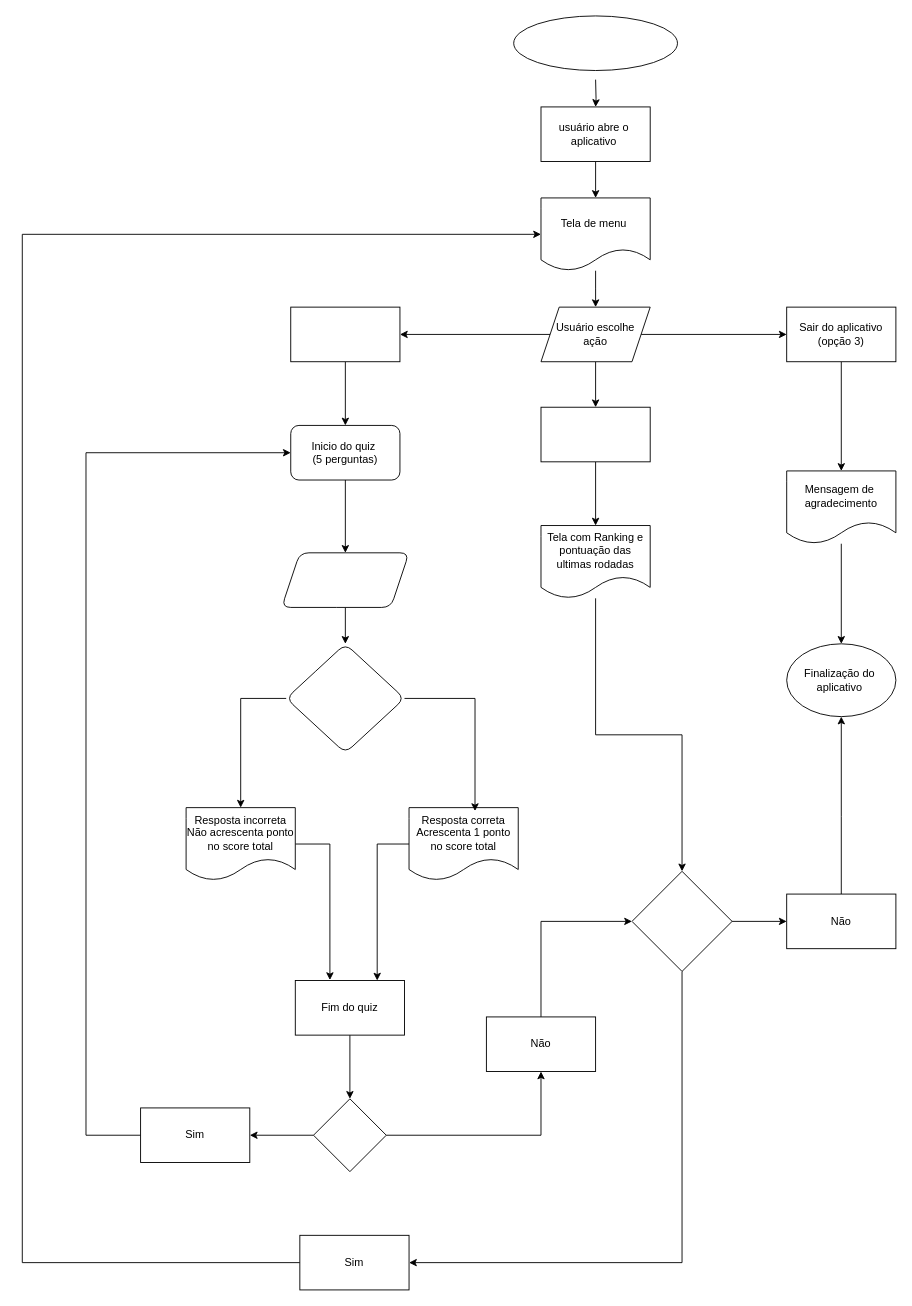
Some shapes in this 912 by 1306 pixel diagram are drawn without their labels. The shapes that lost their labels are listed below. From the top down, each one's box as (x1, y1, x2, y2) in pixels, then its label:
(513, 15, 677, 71): Inicio
(290, 306, 400, 362): Iniciar quiz (opção 1)
(540, 406, 650, 462): Mostrar pontuação e ranking (opção 2)
(281, 552, 409, 607): Escolha da alternativa resposta
(285, 643, 404, 753): Retorno resposta correta/incorreta
(631, 870, 732, 971): Voltar ao menu?
(313, 1098, 386, 1172): Jogar novamente?
